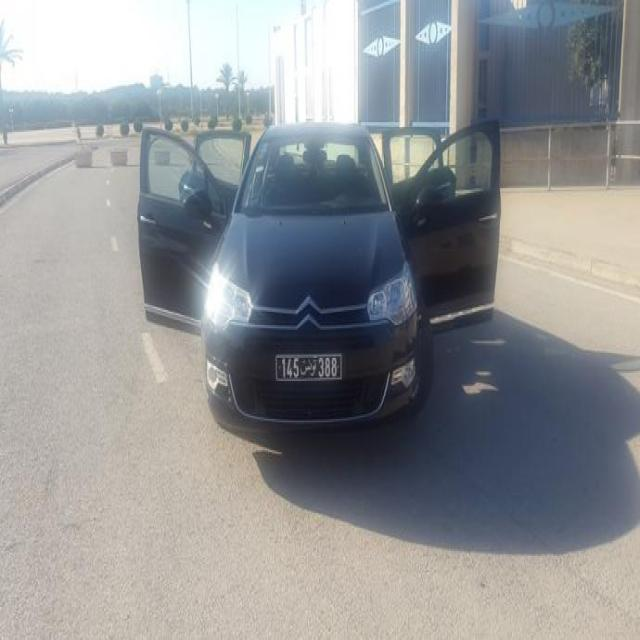LP: (273, 351, 347, 381)
